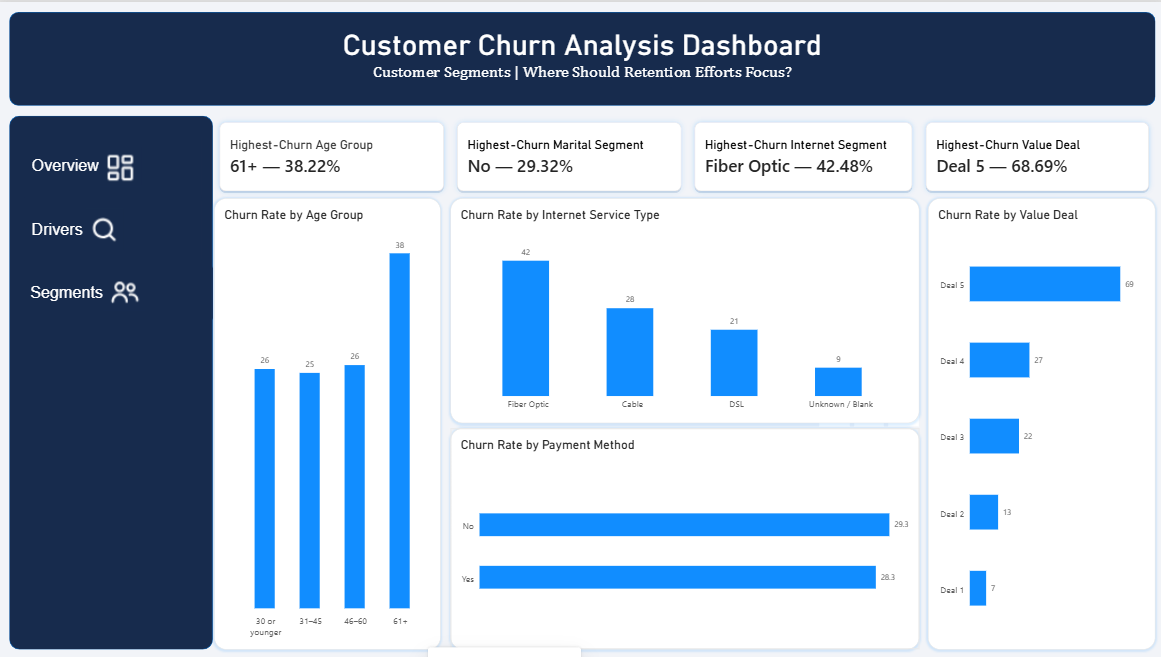

What the dashboard file says about the page in this screenshot:
{"tool":"powerbi","page":{"name":"Customer Segments","canvas":[1920,1080],"ordinal":2},"visuals":[{"type":"cardVisual","fields":{"Data":["customer_churn.Highest-Churn Age Group"]},"box":[354,187.3,391.1,135.8],"z":0},{"type":"cardVisual","fields":{"Data":["customer_churn.Highest-Churn Marital Segment"]},"box":[745.1,187.3,391.1,135.8],"z":1000},{"type":"cardVisual","fields":{"Data":["customer_churn.Highest-Churn Internet Segment"]},"box":[1136.2,187.3,380.8,135.8],"z":2000},{"type":"cardVisual","fields":{"Data":["customer_churn.Highest-Churn Value Deal"]},"box":[1516.5,188.2,389.1,135.7],"z":3000},{"type":"shape","box":[18.1,16.3,1887.5,154.4],"z":4000},{"type":"shape","box":[18.5,187.3,335.5,878.9],"z":5000},{"type":"actionButton","box":[43.2,218.2,292.3,105],"z":6000},{"type":"actionButton","box":[41.2,434.3,312.9,90.6],"z":7000},{"type":"actionButton","box":[43.2,323.2,292.3,105],"z":8000},{"type":"textbox","box":[41.6,43.4,1842.2,114],"z":9000},{"type":"clusteredColumnChart","title":"Churn Rate by Age Group","fields":{"Category":["customer_churn.Age Group"],"Y":["customer_churn.Churn Rate"]},"box":[356.1,323.2,372.6,743.1],"z":10000},{"type":"clusteredBarChart","title":"Churn Rate by Payment Method","fields":{"Category":["customer_churn.Married"],"Y":["customer_churn.Churn Rate"]},"box":[745.1,701.9,771.9,364.3],"z":11000},{"type":"clusteredColumnChart","title":"Churn Rate by Internet Service Type","fields":{"Category":["customer_churn.Internet Segment"],"Y":["customer_churn.Churn Rate"]},"box":[745.1,323.2,771.9,370.5],"z":12000},{"type":"clusteredBarChart","title":"Churn Rate by Value Deal","fields":{"Category":["customer_churn.Value_Deal"],"Y":["customer_churn.Churn Rate"]},"box":[1531.4,323.2,374.6,743.1],"z":13000}]}

Visuals, with their boxes in screenshot pixels (x1, y1, x2, y2), scaled from the page's 1920x1080 canvas onto the 1161x657 screenshot:
cardVisual - customer_churn.Highest-Churn Age Group: [x1=214, y1=114, x2=451, y2=197]
cardVisual - customer_churn.Highest-Churn Marital Segment: [x1=451, y1=114, x2=687, y2=197]
cardVisual - customer_churn.Highest-Churn Internet Segment: [x1=687, y1=114, x2=917, y2=197]
cardVisual - customer_churn.Highest-Churn Value Deal: [x1=917, y1=114, x2=1152, y2=197]
shape: [x1=11, y1=10, x2=1152, y2=104]
shape: [x1=11, y1=114, x2=214, y2=649]
actionButton: [x1=26, y1=133, x2=203, y2=197]
actionButton: [x1=25, y1=264, x2=214, y2=319]
actionButton: [x1=26, y1=197, x2=203, y2=260]
textbox: [x1=25, y1=26, x2=1139, y2=96]
"Churn Rate by Age Group" clusteredColumnChart: [x1=215, y1=197, x2=441, y2=649]
"Churn Rate by Payment Method" clusteredBarChart: [x1=451, y1=427, x2=917, y2=649]
"Churn Rate by Internet Service Type" clusteredColumnChart: [x1=451, y1=197, x2=917, y2=422]
"Churn Rate by Value Deal" clusteredBarChart: [x1=926, y1=197, x2=1153, y2=649]
